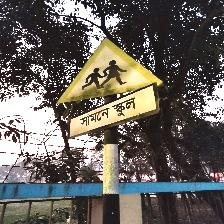School-in-front: (57, 37, 164, 139)
